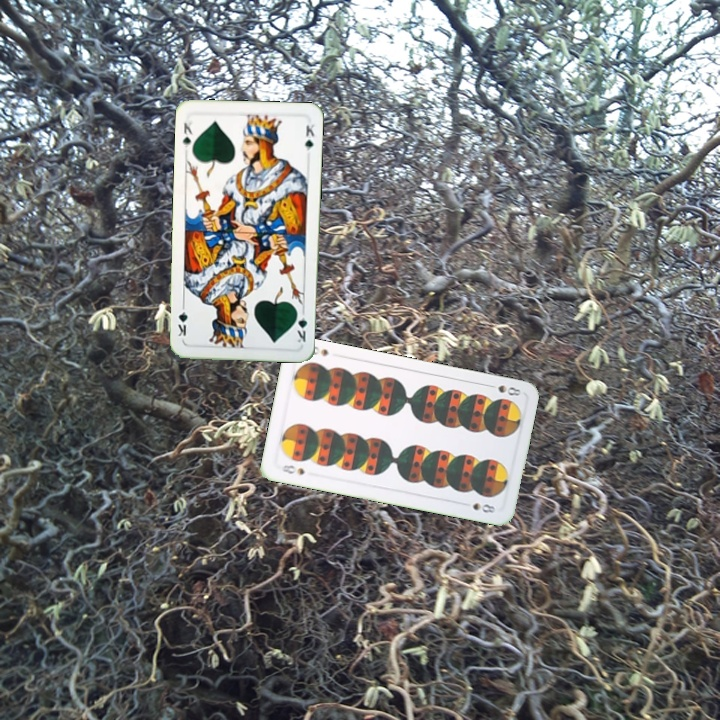GK: (293, 306, 310, 345), (179, 118, 195, 150)
S8: (483, 380, 523, 398), (278, 461, 307, 477)
